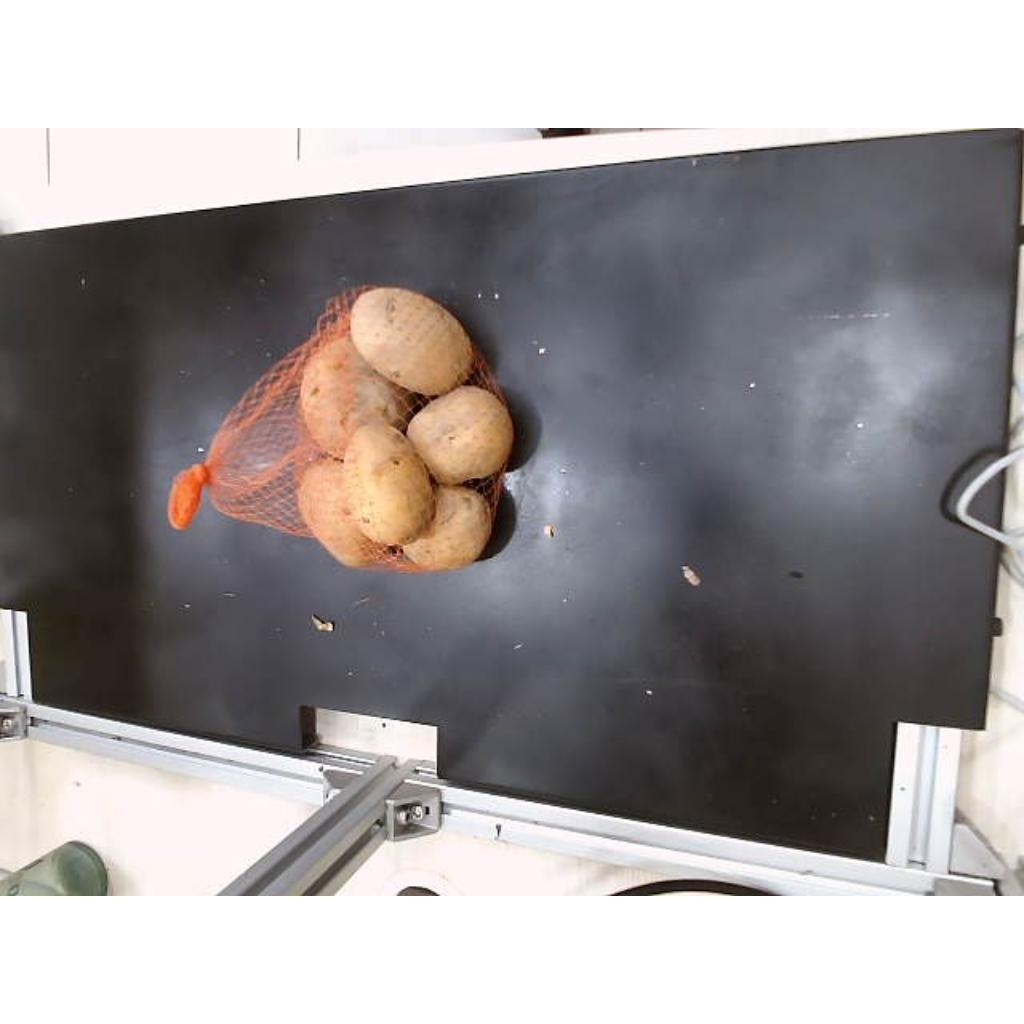potato: (300, 336, 412, 457), (350, 288, 474, 395), (344, 424, 434, 545), (408, 386, 514, 484), (402, 486, 492, 569)
